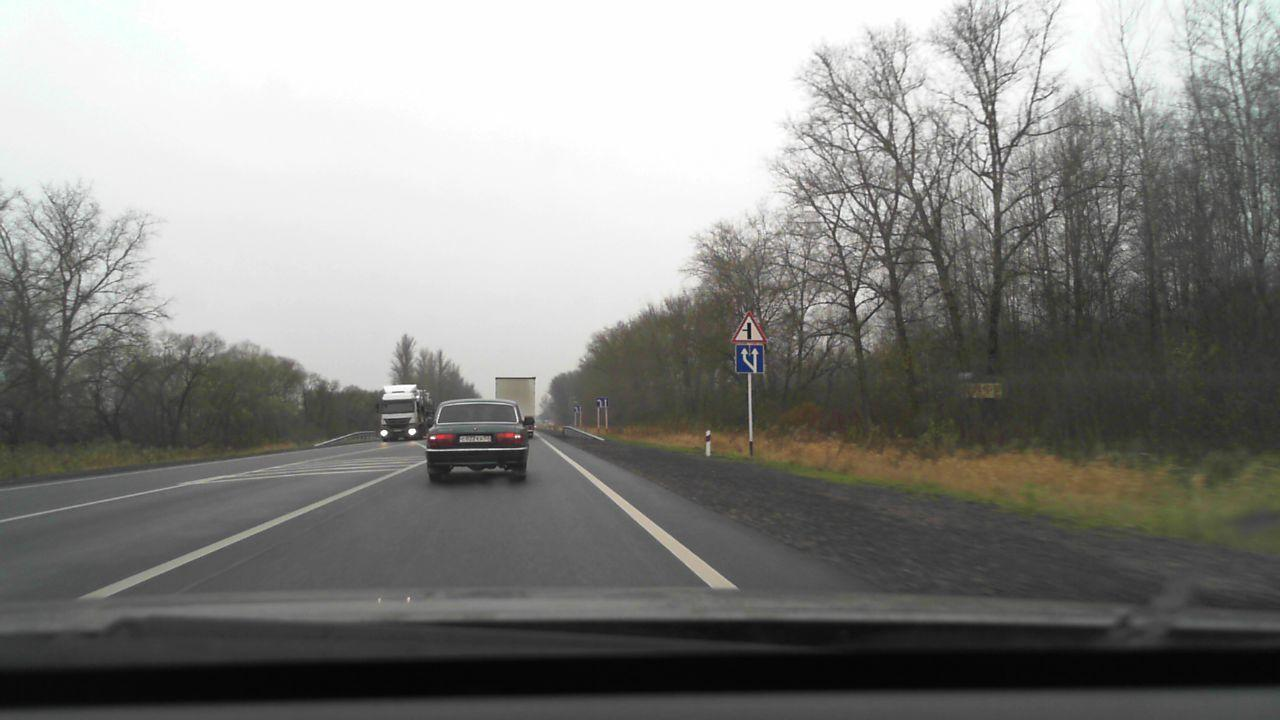2_3_3: (730, 310, 769, 343)
5_15_1: (594, 396, 609, 407), (573, 404, 583, 412)
5_15_4: (736, 345, 763, 374)
